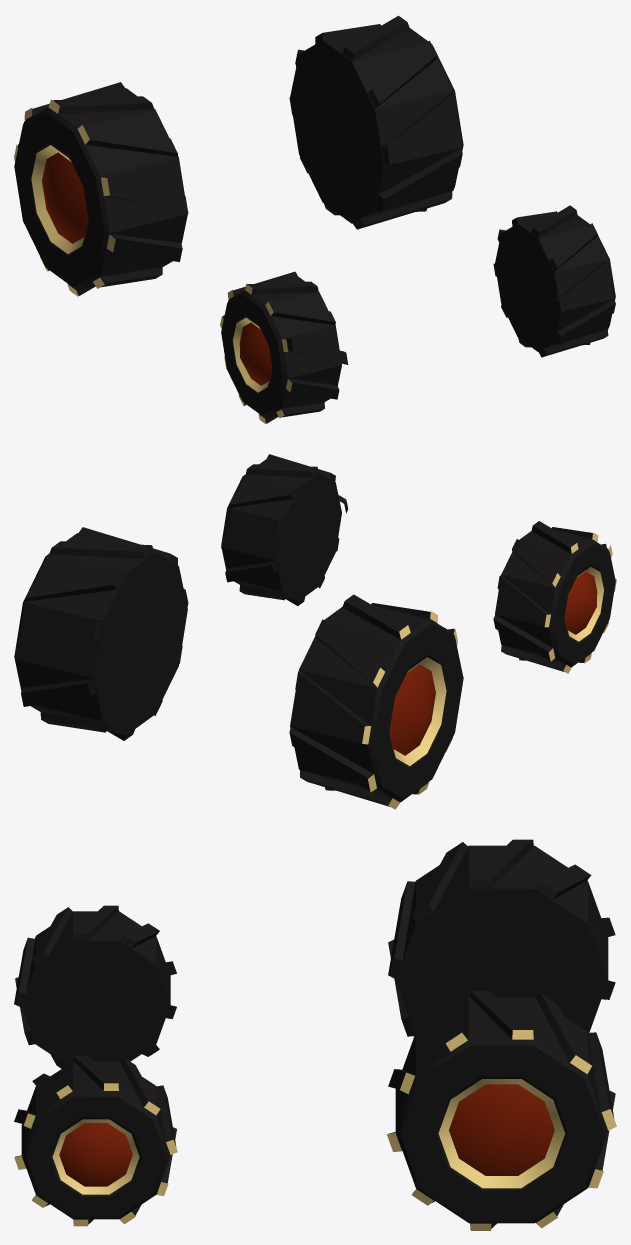
File: TankWheel00R02.gltf
3 views of the same model, one above another, from view 1: azimuth 30°, elevation 25°; view 2: azimuth 150°, elevation 25°; view 3: azimuth 270°, elevation 25° (orthographic). The views are drawn at different scales.
Parts seen in each view (by area): view 1: TankWheel00R02; view 2: TankWheel00R02; view 3: TankWheel00R02.
Part boxes in pixels (x1,y1,x2,y2): TankWheel00R02: (14, 15, 615, 423); TankWheel00R02: (14, 454, 616, 809); TankWheel00R02: (14, 839, 616, 1230).
Bounding box in the file's own units: 0.228 × 0.103 × 0.2779.
